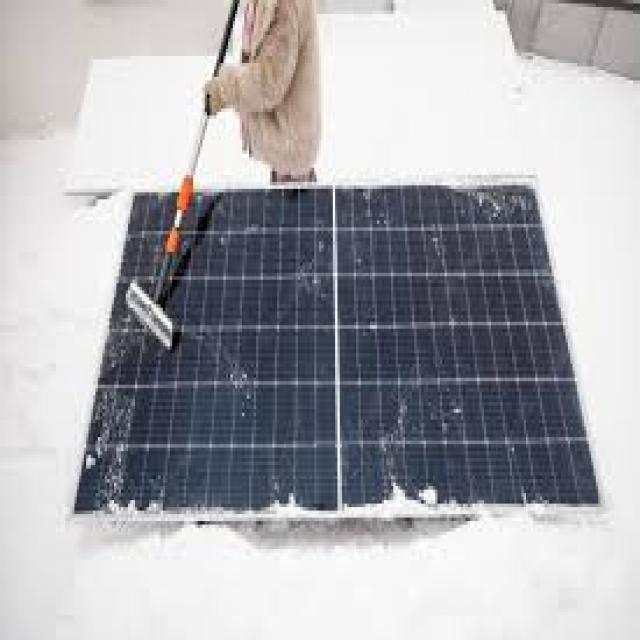faulty: (336, 176, 598, 530), (88, 198, 331, 524)
